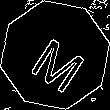M_NE: (22, 21, 88, 89)
